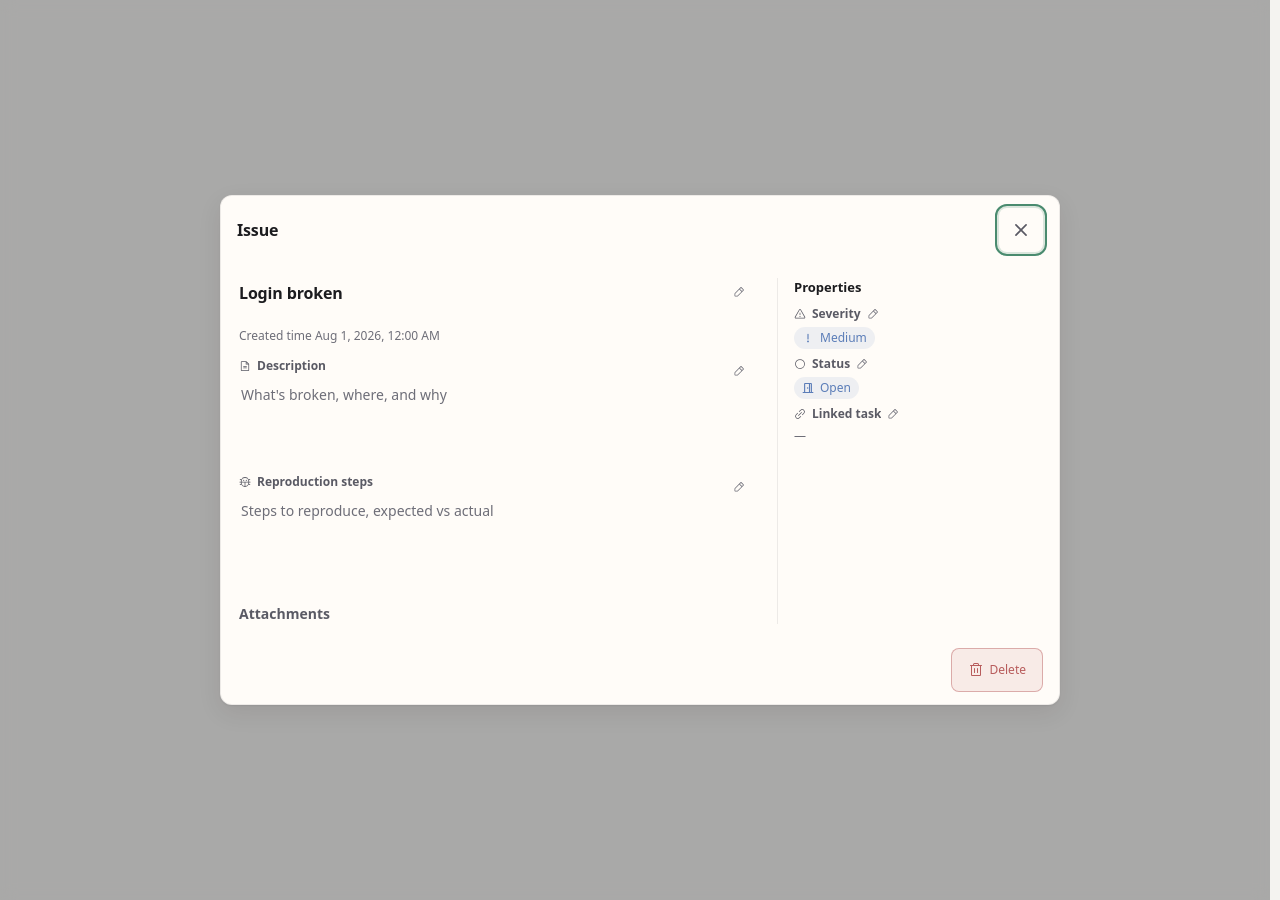
Test case: IssueModal linked task select › opens severity options in a single activator click
Click the button "Medium".
click(918, 338)  # box [794,326,1041,348]
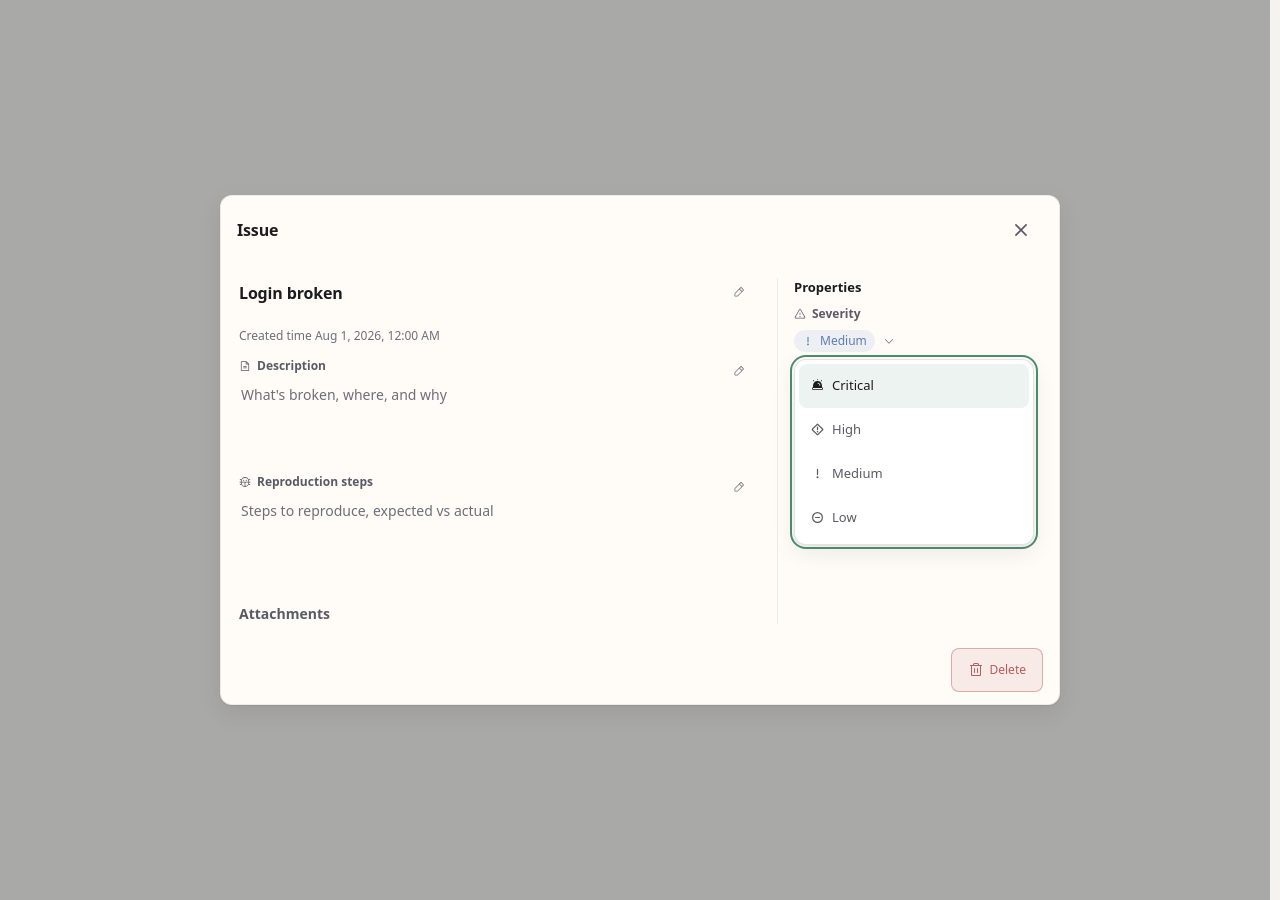
Expected: the option "Critical" is shown, [799,364,1029,408]
